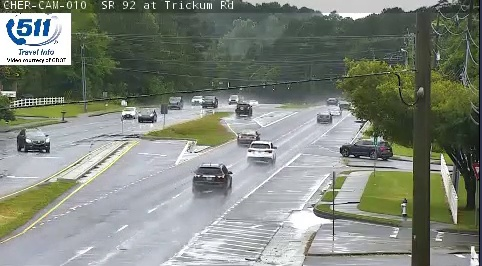car: (193, 164, 232, 189), (247, 140, 275, 160), (237, 129, 259, 144), (235, 103, 252, 115), (316, 110, 330, 122)
